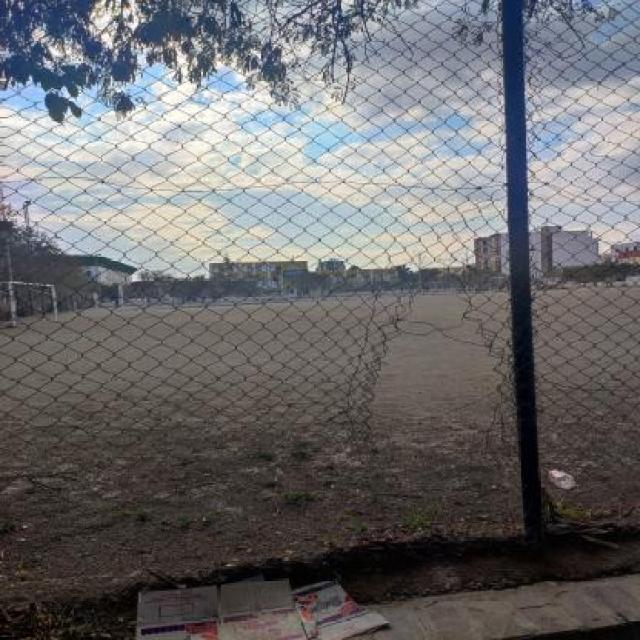fence line: (348, 305, 519, 470)
